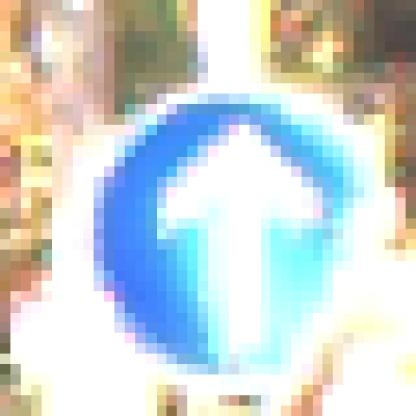AheadOnly: (64, 63, 355, 365)
